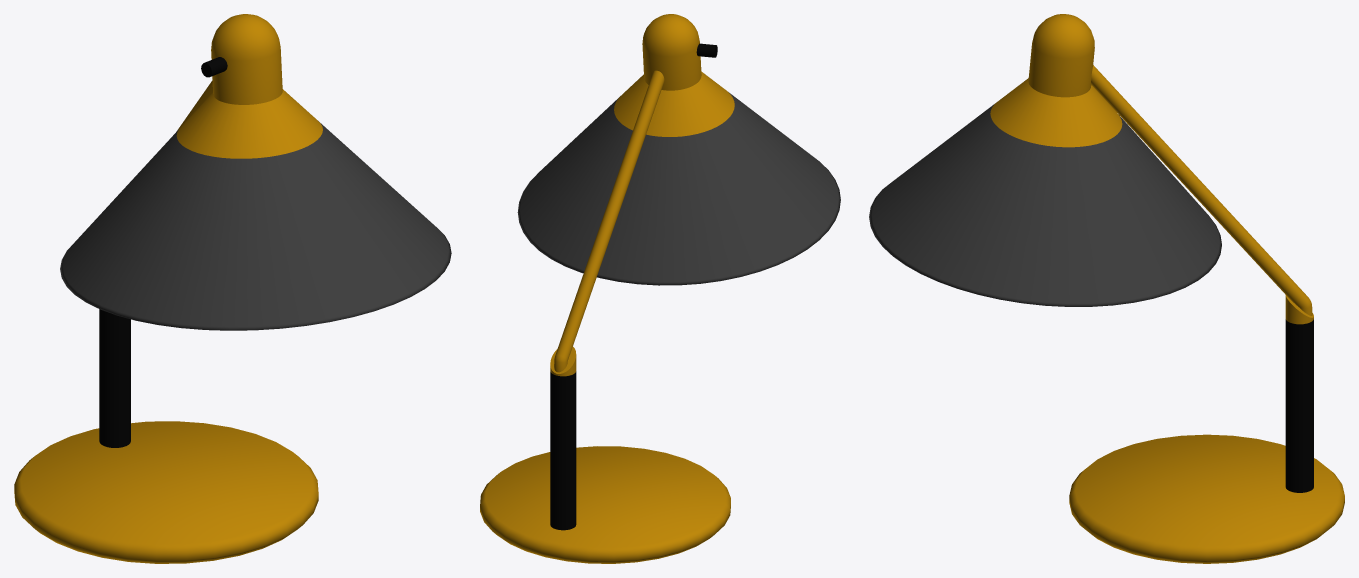
File: taideng.FBX
3 renders of one model, left to right at view 1: azimuth 30°, elevation 25°; view 2: azimuth 150°, elevation 25°; view 3: azimuth 270°, elevation 25°, orthographic. The views are drawn at different scales.
Parts seen in each view (by area): view 1: taideng; view 2: taideng; view 3: taideng.
Boxes of the visible parts, x1=… form: taideng: x1=14, y1=14, x2=451, y2=563; taideng: x1=480, y1=14, x2=840, y2=563; taideng: x1=869, y1=14, x2=1344, y2=563.
Size of the model in its own units: 200 by 307 by 269.
